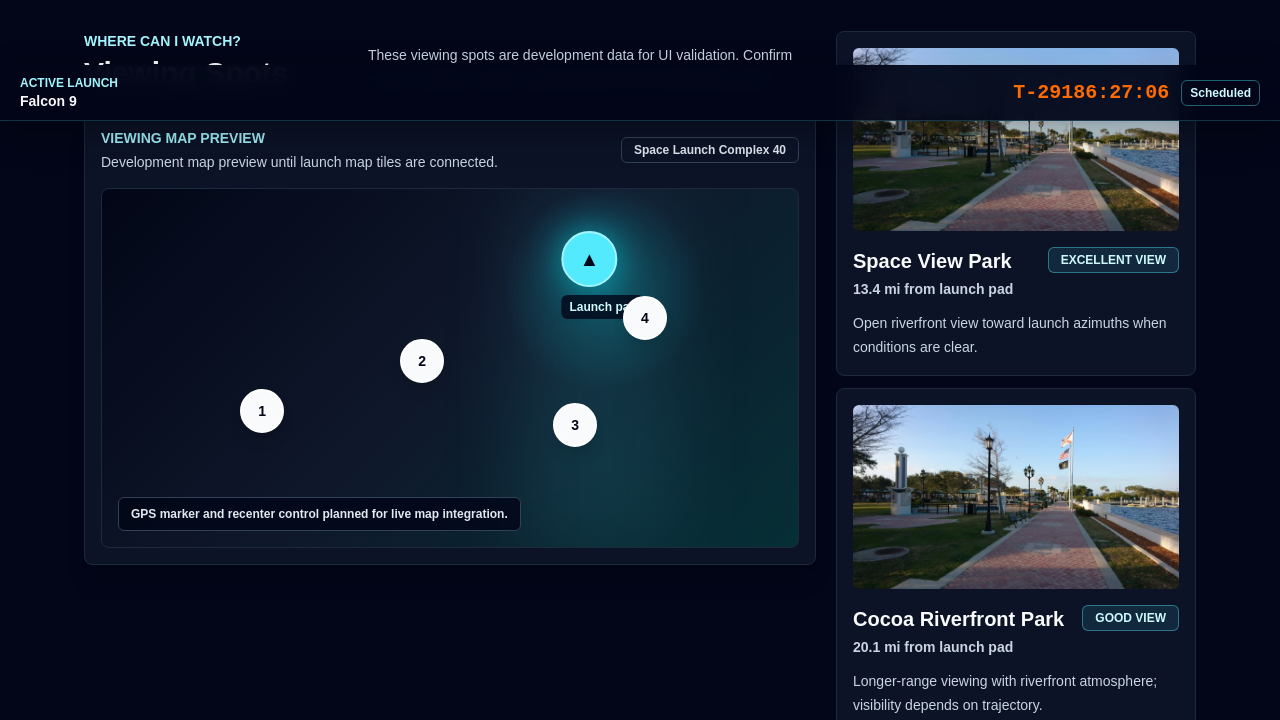
Test: LaunchesPage › selects viewing spots from map markers
The width and height of the screenshot is (1280, 720).
(page scrolled)
Click the button named "Select viewing spot Cocoa Riverfront Park". click: {"x": 422, "y": 361}
box: [400, 339, 444, 383]
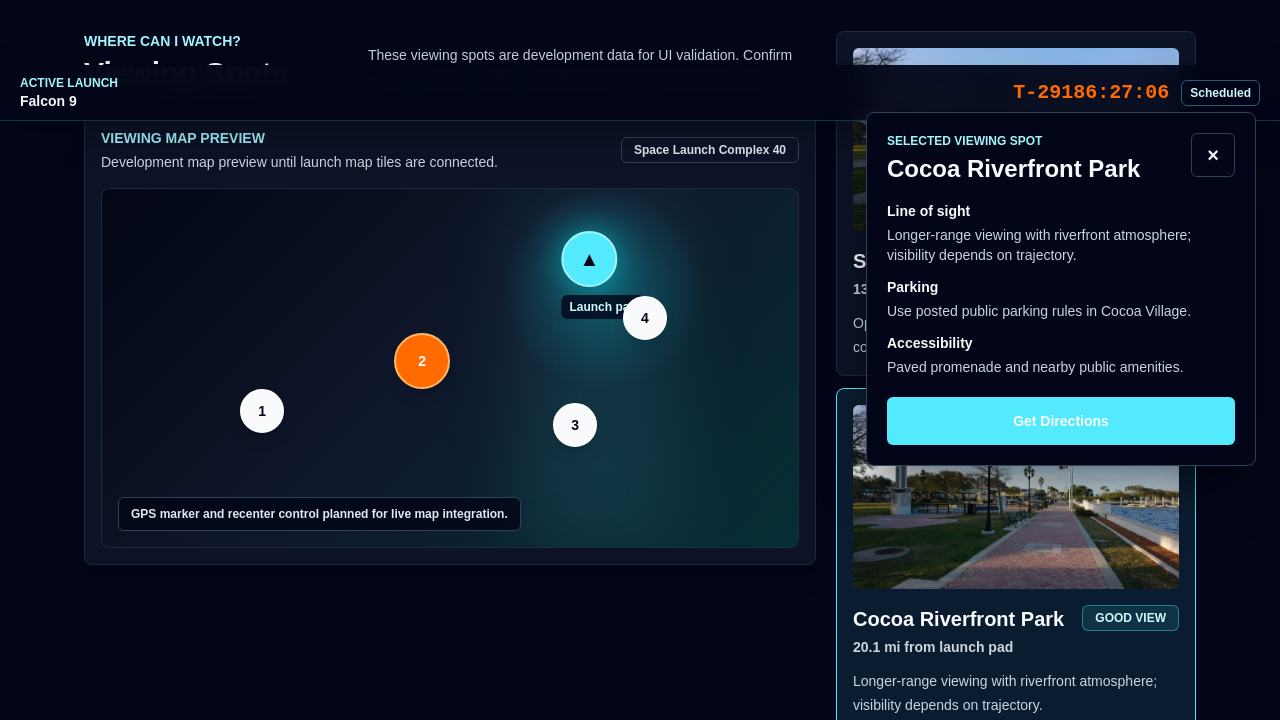
Check: the dialog named "Cocoa Riverfront Park viewing spot details" is shown, box [866, 112, 1256, 466]
